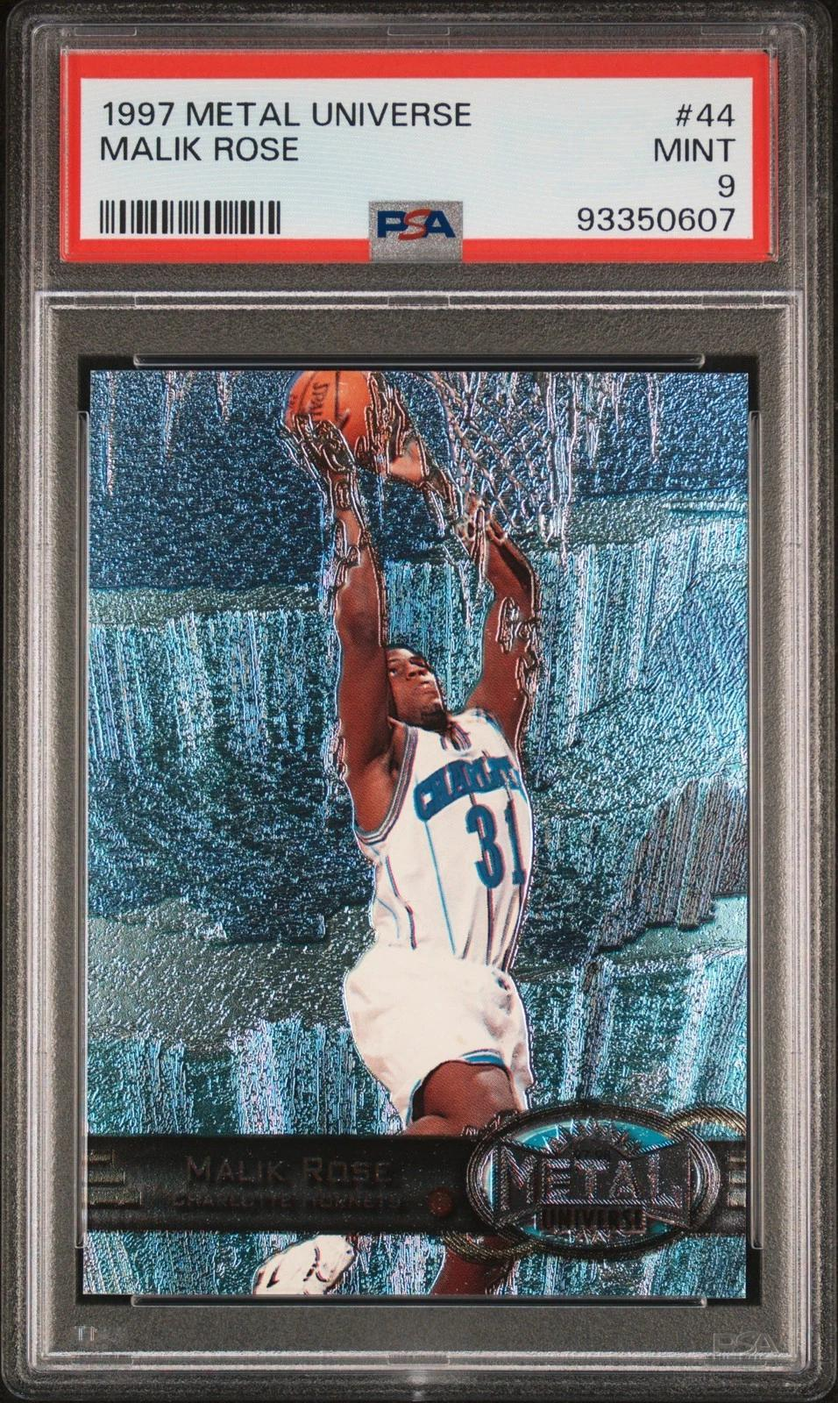card-2UtV: (82, 368, 751, 1299)
